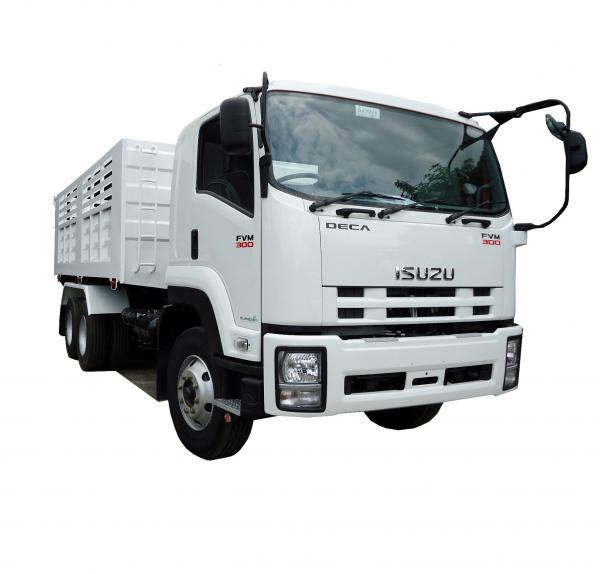truck: (48, 72, 525, 460)
